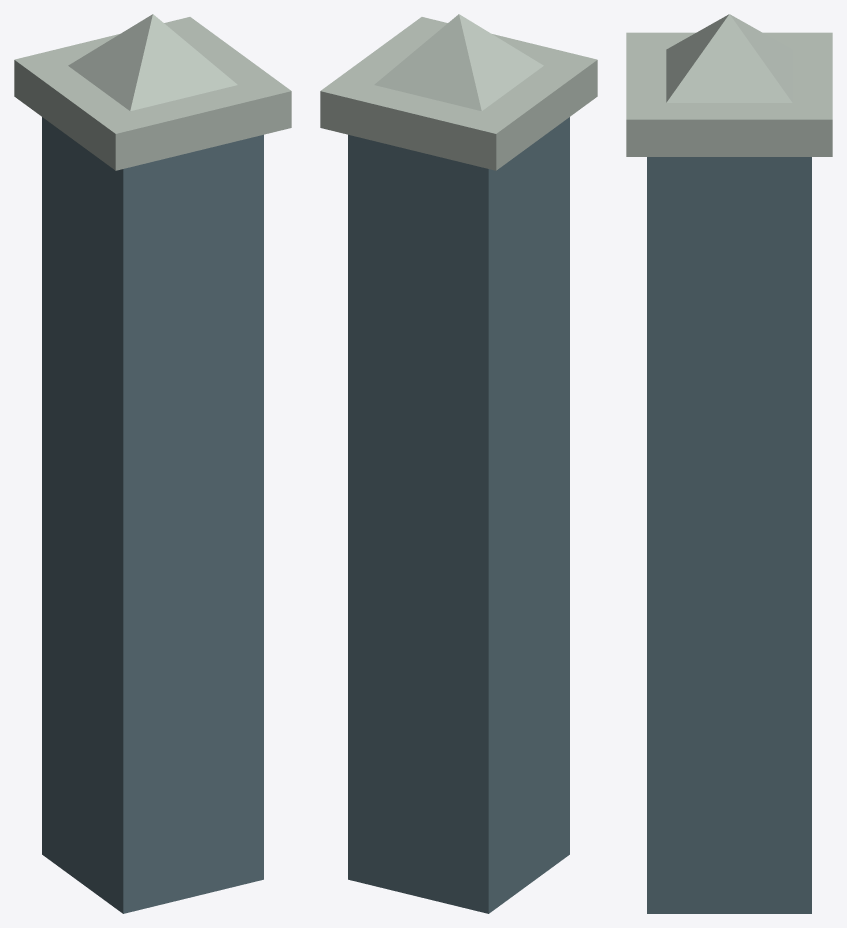
File: rail_post.glb
3 views of the same model, side by side, from view 1: azimuth 30°, elevation 25°; view 2: azimuth 150°, elevation 25°; view 3: azimuth 270°, elevation 25° (orthographic).
Parts seen in each view (by area): view 1: RailPost / Stone, RailPost / Coping; view 2: RailPost / Stone, RailPost / Coping; view 3: RailPost / Stone, RailPost / Coping.
Part boxes in pixels (x1,y1,x2,y2): RailPost / Stone: (42,117,263,913); RailPost / Coping: (14,14,291,170); RailPost / Stone: (348,117,569,913); RailPost / Coping: (320,14,597,170); RailPost / Stone: (647,157,811,913); RailPost / Coping: (626,14,832,156).
Size of the model in its own units: 0.3 by 1.39 by 0.3.
